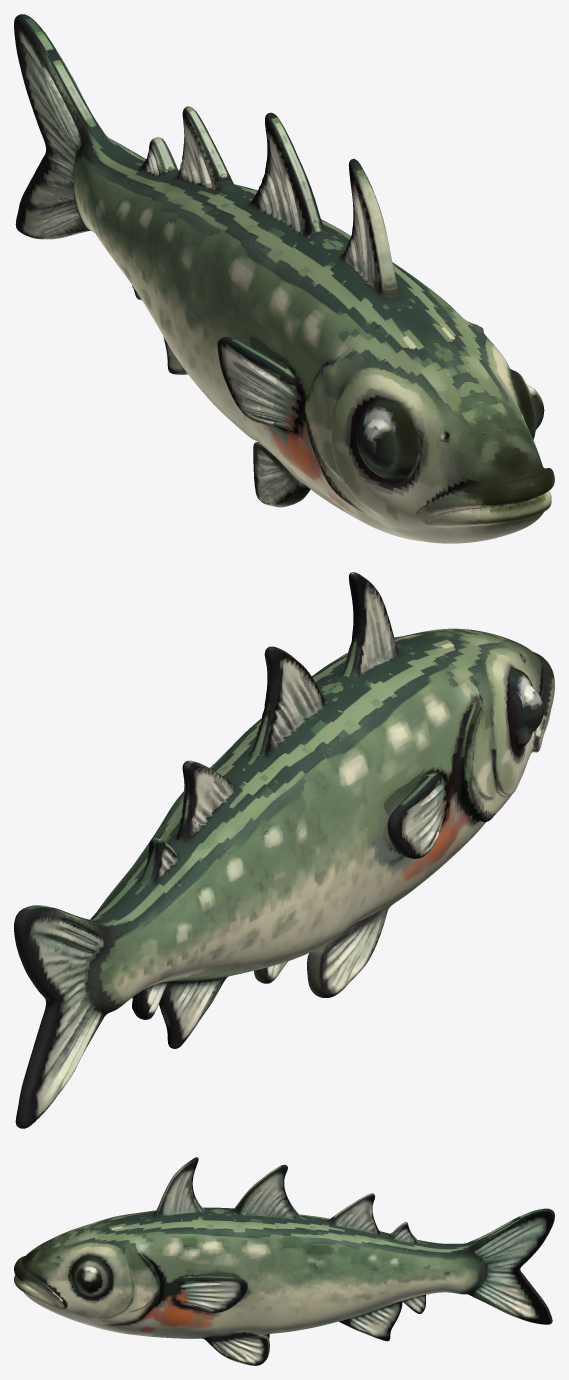
File: Epinoche.fbx
3 renders of one model, top to bottom at view 1: azimuth 30°, elevation 25°; view 2: azimuth 150°, elevation 25°; view 3: azimuth 270°, elevation 25°, orthographic. The views are drawn at different scales.
Visible parts, largest first — view 1: Mesh_0; view 2: Mesh_0; view 3: Mesh_0.
Boxes of the visible parts, box(x1,y1,x2,y2) form: Mesh_0: box(14, 14, 554, 543); Mesh_0: box(14, 572, 554, 1128); Mesh_0: box(14, 1157, 554, 1365).
Bounding box in the file's own units: 39.19 × 77.38 × 190.
1 material, 1 textured.
